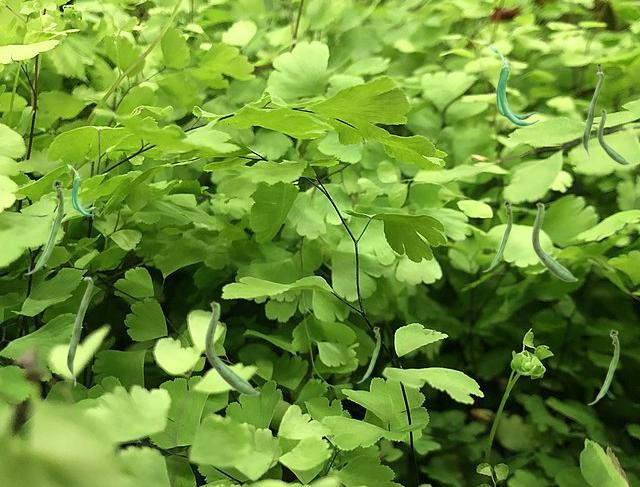french_bean: (204, 300, 259, 395), (489, 45, 538, 125), (24, 179, 63, 274), (531, 201, 577, 281), (66, 276, 92, 386), (587, 329, 618, 404), (482, 200, 511, 271), (582, 71, 603, 161), (597, 108, 629, 164), (67, 164, 98, 215), (356, 326, 379, 382), (583, 63, 601, 109)
